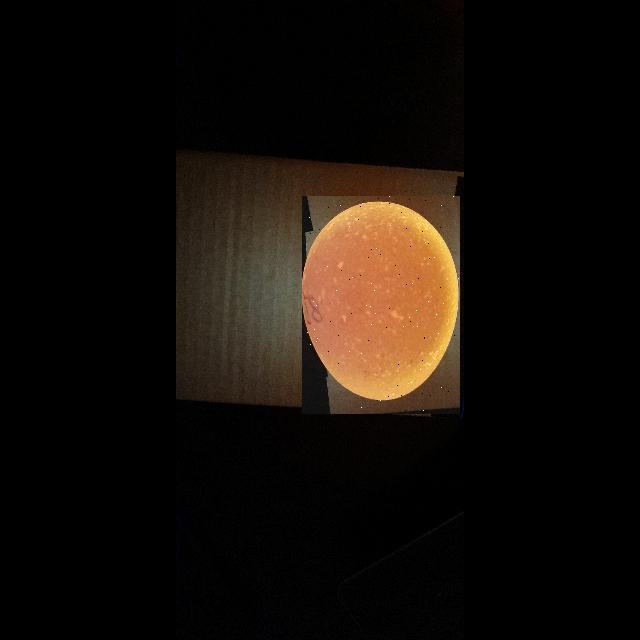Inedible: (290, 196, 468, 403)
